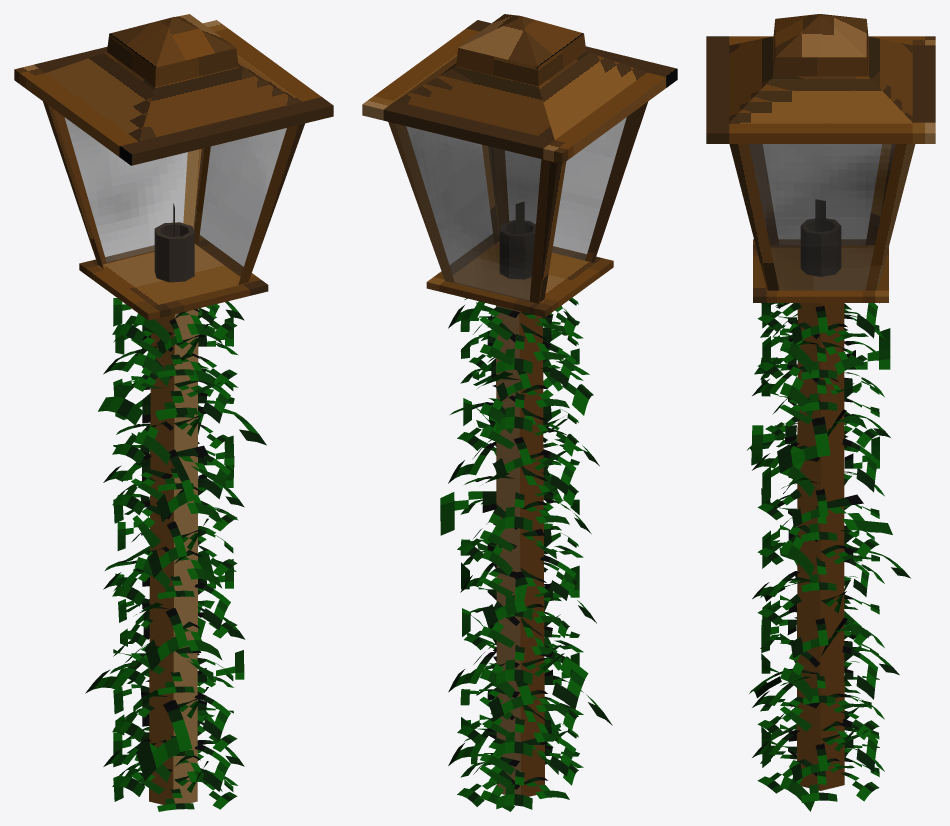
Rendered from lamp_post_889x04.gltf.
3 views of the same model, side by side, from view 1: azimuth 30°, elevation 25°; view 2: azimuth 150°, elevation 25°; view 3: azimuth 270°, elevation 25° (orthographic).
Visible parts, largest first — view 1: lamp_post_889x04, leaves; view 2: lamp_post_889x04, leaves; view 3: lamp_post_889x04, leaves.
Part boxes in pixels (bbox=[...]): lamp_post_889x04: bbox=[14, 14, 333, 804]; leaves: bbox=[85, 298, 266, 811]; lamp_post_889x04: bbox=[362, 14, 677, 796]; leaves: bbox=[440, 297, 612, 811]; lamp_post_889x04: bbox=[706, 14, 935, 790]; leaves: bbox=[747, 303, 910, 811].
Size of the model in its own units: 2 by 7.42 by 2.
Materials: 2 (2 with a texture image).
